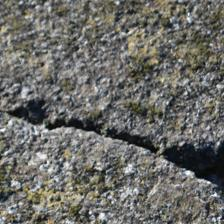Crack: (4, 50, 215, 144)
